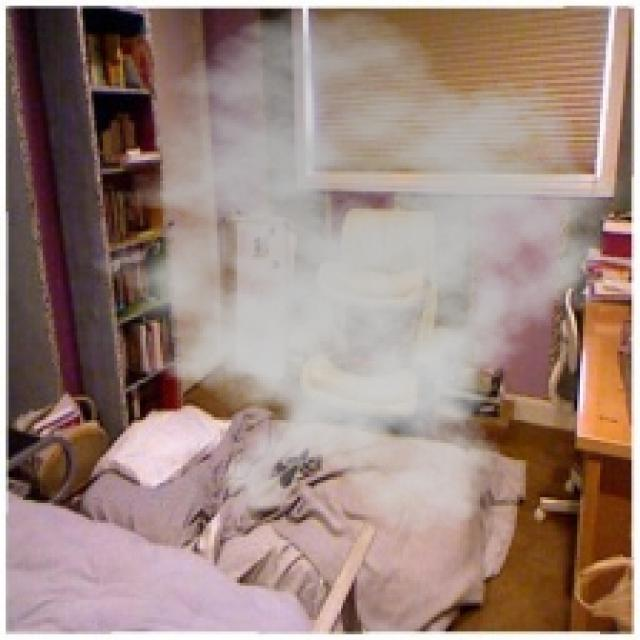Smoke: (68, 9, 638, 538)
